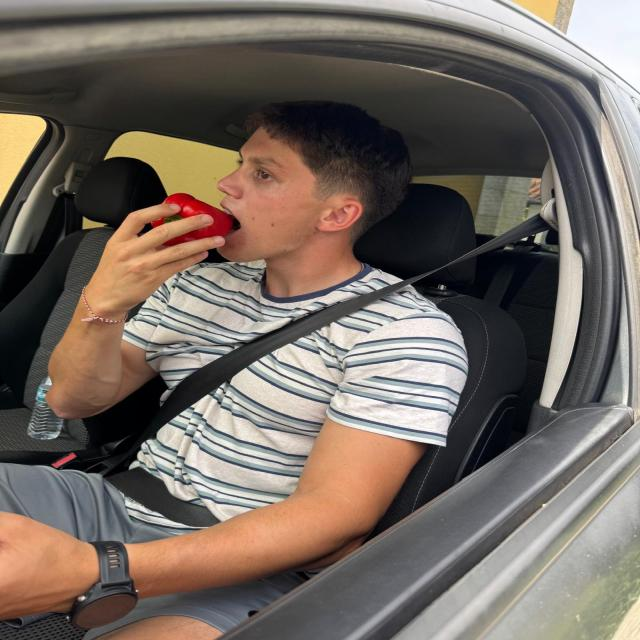Eating: (114, 169, 262, 288)
Seatbelt: (99, 178, 551, 532)
